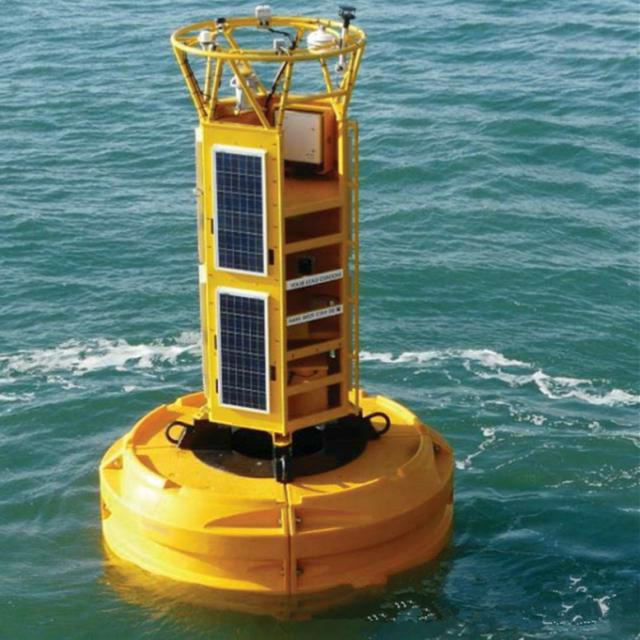buoy: (96, 0, 462, 603)
